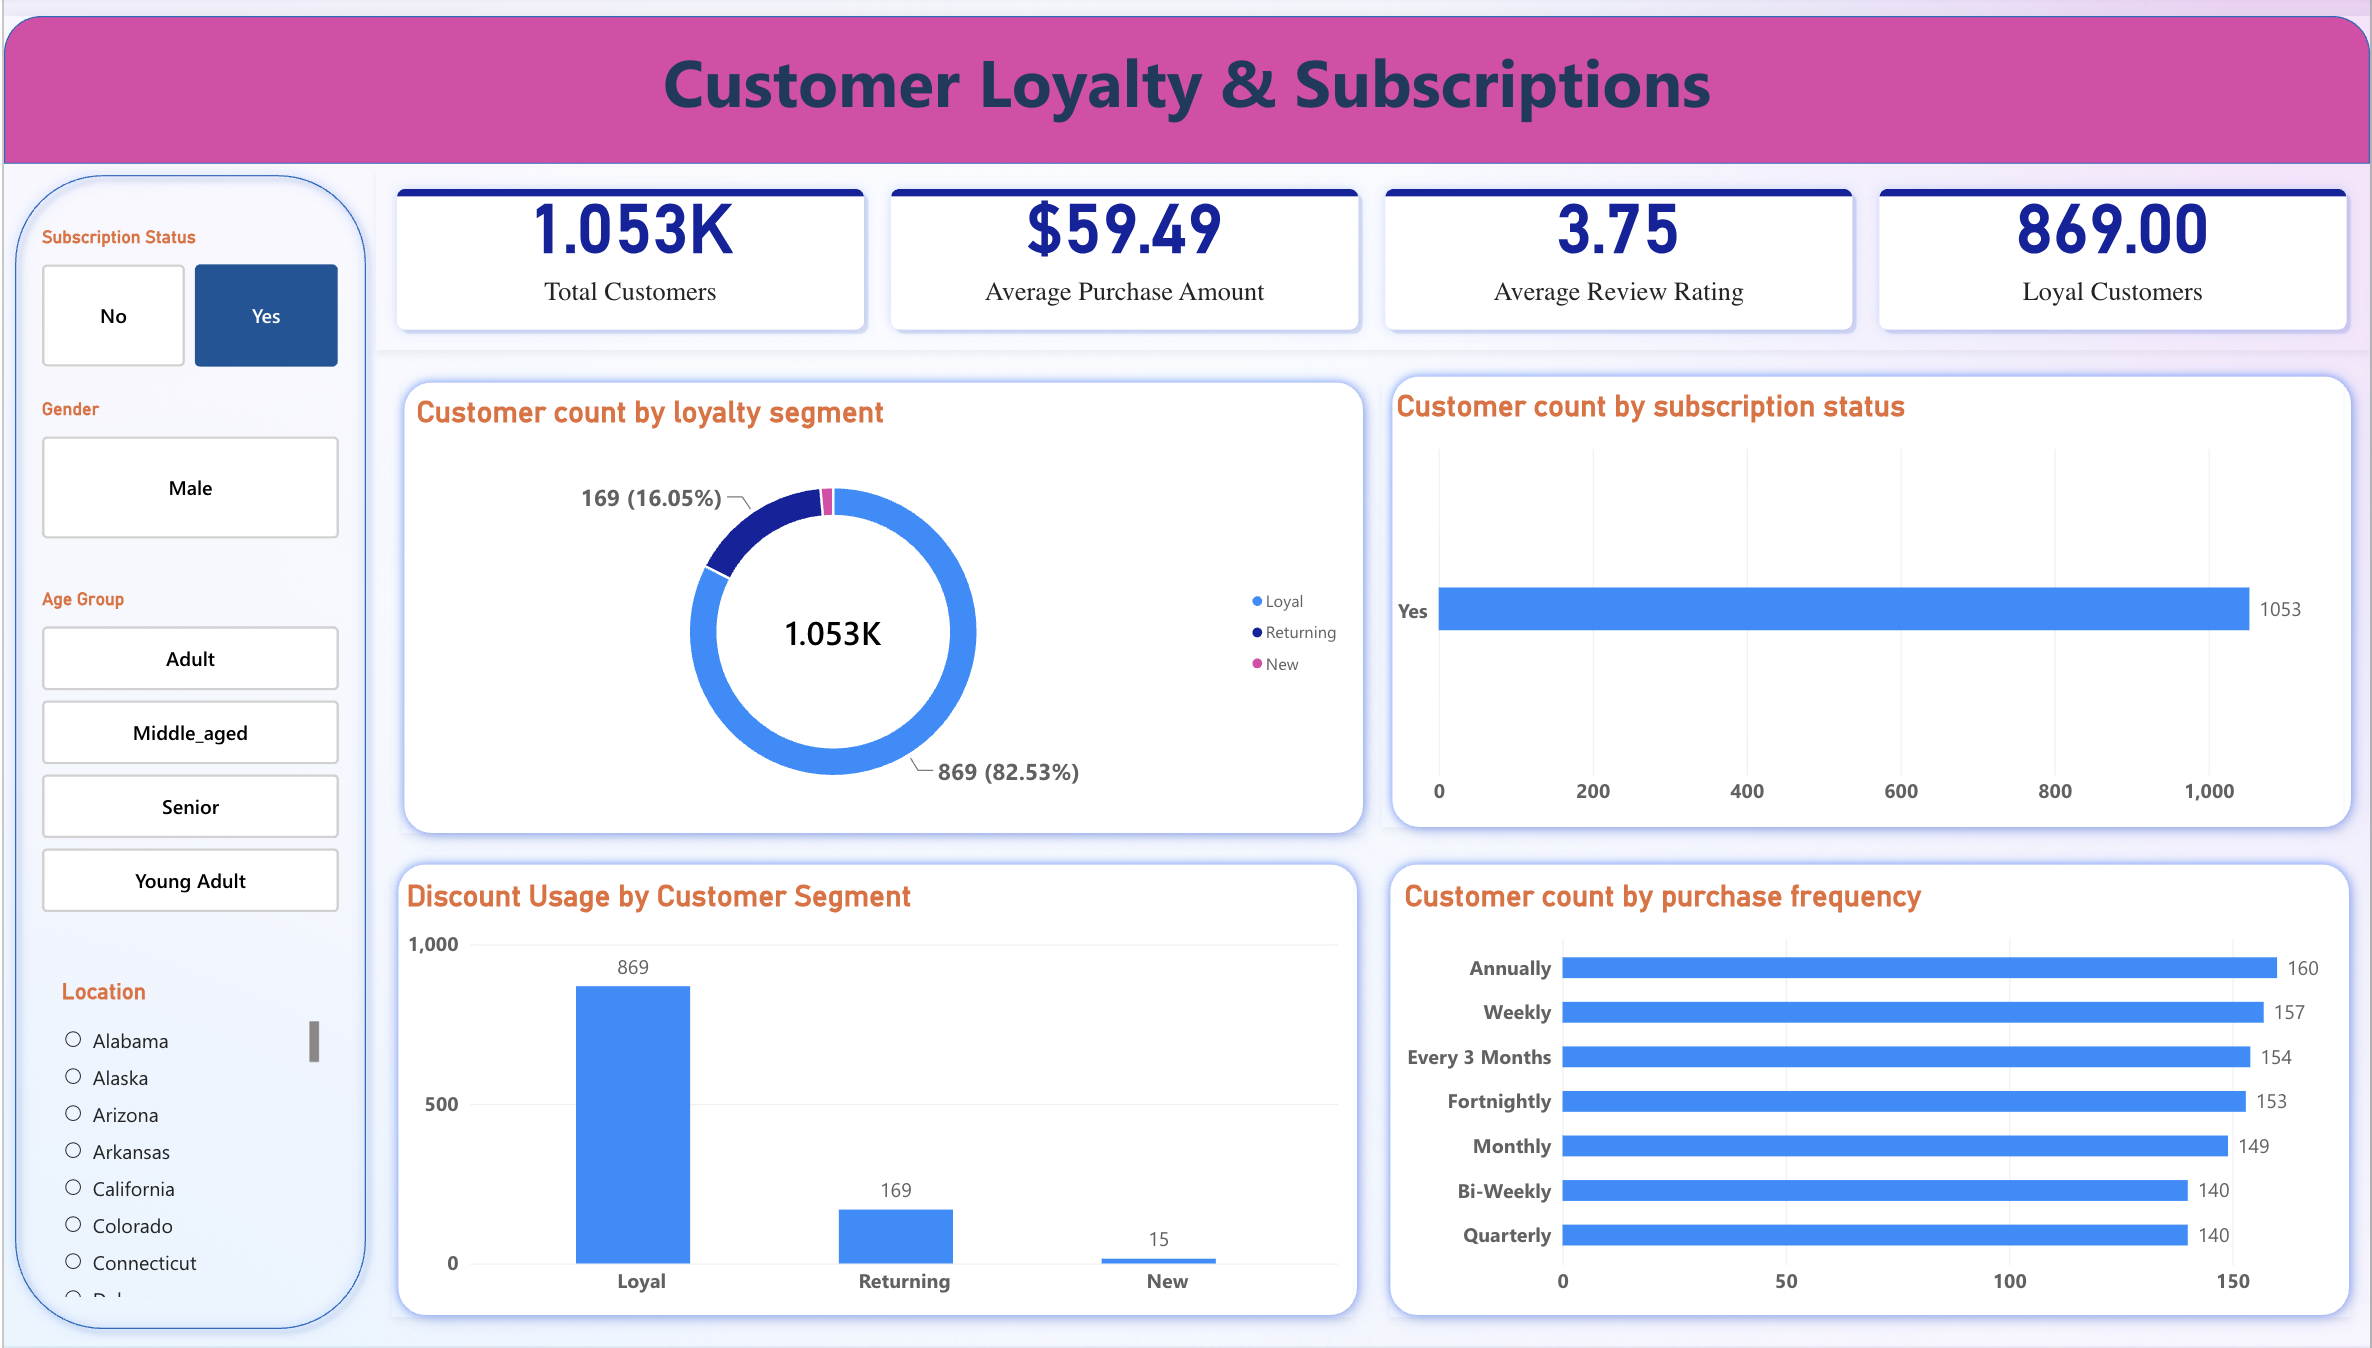

The dashboard page shown, as its layout file describes it:
{"tool":"powerbi","page":{"name":"Customer Loyalty & Subscriptions","canvas":[1920,1080],"ordinal":1},"visuals":[{"type":"cardVisual","fields":{"Data":["public customer.Number of customers","public customer.Average Purchase Amount","public customer.Average Review Rating","public customer.Loyal Customers"]},"box":[302,124,1618,148],"z":0},{"type":"shape","box":[0,0,1920,120],"z":1000},{"type":"textbox","box":[0,16,1920,108],"z":2000},{"type":"shape","box":[0,120.7,302.7,954.4],"z":3000},{"type":"advancedSlicerVisual","title":"Subscription Status","fields":{"Values":["public customer.subscription_status"]},"box":[31.6,172.7,241.4,113.3],"z":4000},{"type":"advancedSlicerVisual","title":"Gender","fields":{"Values":["public customer.gender"]},"box":[31.6,312,241.4,113.3],"z":5000},{"type":"advancedSlicerVisual","title":"Age Group","fields":{"Values":["public customer.age_group"]},"box":[31.6,466.1,241.4,263.7],"z":6000},{"type":"shape","box":[304.5,674,807.7,395.5],"z":7000},{"type":"listSlicer","title":"Location","fields":{"Values":["public customer.location"]},"box":[31.6,768.7,241.4,286],"z":8000},{"type":"clusteredColumnChart","title":"Discount Usage by Customer Segment","fields":{"Category":["public customer.Customer Segment"],"Y":["CountNonNull(public customer.discount_applied)"]},"box":[315.7,690.8,779.9,363.9],"z":9000},{"type":"shape","box":[1110.4,674,807.7,395.5],"z":10000},{"type":"clusteredBarChart","title":"Customer count by purchase frequency","fields":{"Category":["public customer.frequency_of_purchases"],"Y":["Count(public customer.customer_id)"]},"box":[1125.3,690.8,779.9,363.9],"z":11000},{"type":"shape","box":[310.6,282.4,807.7,395.5],"z":12000},{"type":"donutChart","title":"Customer count by loyalty segment","fields":{"Category":["public customer.Customer Segment"],"Y":["Count(public customer.customer_id)"]},"box":[322.7,298.5,779.9,363.9],"z":13000},{"type":"shape","box":[1111.3,278.3,807.7,395.5],"z":14000},{"type":"clusteredBarChart","title":"Customer count by subscription status","fields":{"Category":["public customer.subscription_status"],"Y":["Count(public customer.customer_id)"]},"box":[1118.5,293.4,779.9,363.9],"z":15000}]}

Visuals, with their boxes in screenshot pixels (x1, y1, x2, y2), scaled from the page's 1920x1080 canvas onto the 2372x1348 screenshot:
cardVisual - public customer.Number of customers x public customer.Average Purchase Amount: x1=373 y1=155 x2=2371 y2=339
shape: x1=0 y1=0 x2=2371 y2=150
textbox: x1=0 y1=20 x2=2371 y2=155
shape: x1=0 y1=151 x2=374 y2=1342
"Subscription Status" advancedSlicerVisual: x1=39 y1=216 x2=337 y2=357
"Gender" advancedSlicerVisual: x1=39 y1=389 x2=337 y2=531
"Age Group" advancedSlicerVisual: x1=39 y1=582 x2=337 y2=911
shape: x1=376 y1=841 x2=1374 y2=1335
"Location" listSlicer: x1=39 y1=959 x2=337 y2=1316
"Discount Usage by Customer Segment" clusteredColumnChart: x1=390 y1=862 x2=1354 y2=1316
shape: x1=1372 y1=841 x2=2370 y2=1335
"Customer count by purchase frequency" clusteredBarChart: x1=1390 y1=862 x2=2354 y2=1316
shape: x1=384 y1=352 x2=1382 y2=846
"Customer count by loyalty segment" donutChart: x1=399 y1=373 x2=1362 y2=827
shape: x1=1373 y1=347 x2=2371 y2=841
"Customer count by subscription status" clusteredBarChart: x1=1382 y1=366 x2=2345 y2=820
